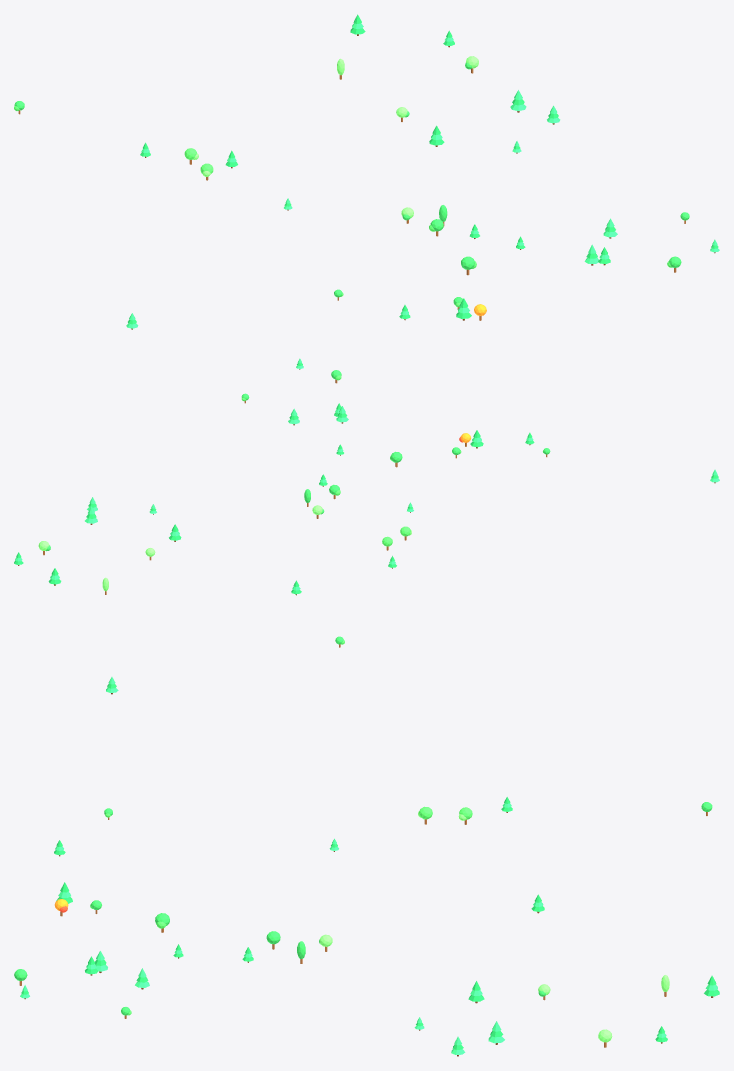
The model's file is course_trees_2.glb.
3 renders of one model, top to bottom at view 1: azimuth 30°, elevation 25°; view 2: azimuth 150°, elevation 25°; view 3: azimuth 270°, elevation 25°, orthographic. The views are drawn at different scales.
Parts seen in each view (by area): view 1: course_trees_2; view 2: course_trees_2; view 3: course_trees_2.
Boxes of the visible parts, left/top/right/bottom form: course_trees_2: left=14, top=14, right=719, bottom=329; course_trees_2: left=14, top=358, right=719, bottom=647; course_trees_2: left=14, top=677, right=719, bottom=1056.
Size of the model in its own units: 234 by 28.89 by 227.
Materials: 1 (1 with a texture image).
